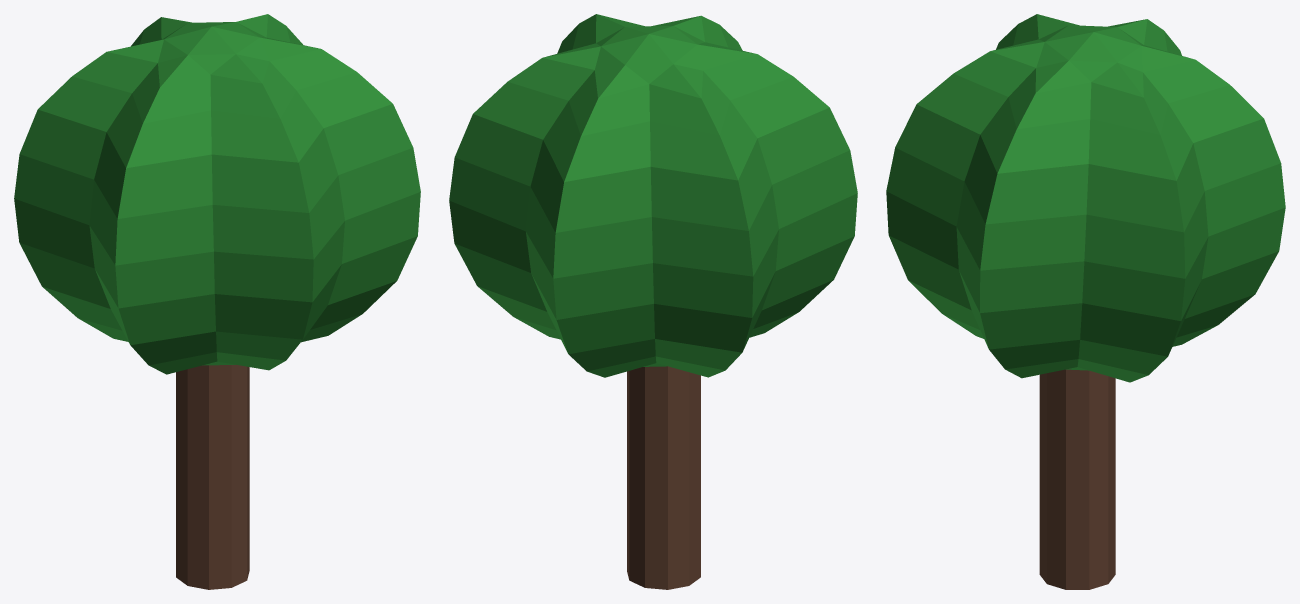
The model's file is low_poly_stablo_liza.fbx.
The picture shows the model from 3 angles, left to right: view 1: azimuth 30°, elevation 25°; view 2: azimuth 150°, elevation 25°; view 3: azimuth 270°, elevation 25°; orthographic projection.
Visible parts, largest first — view 1: Sphere, Cylinder; view 2: Sphere, Cylinder; view 3: Sphere, Cylinder.
Boxes of the visible parts, x1,y1,x2,y2 form: Sphere: [14, 14, 420, 374]; Cylinder: [176, 365, 249, 589]; Sphere: [449, 14, 857, 377]; Cylinder: [627, 366, 700, 589]; Sphere: [886, 14, 1285, 382]; Cylinder: [1039, 369, 1115, 589].
Bounding box in the file's own units: 252 × 225 × 381.
